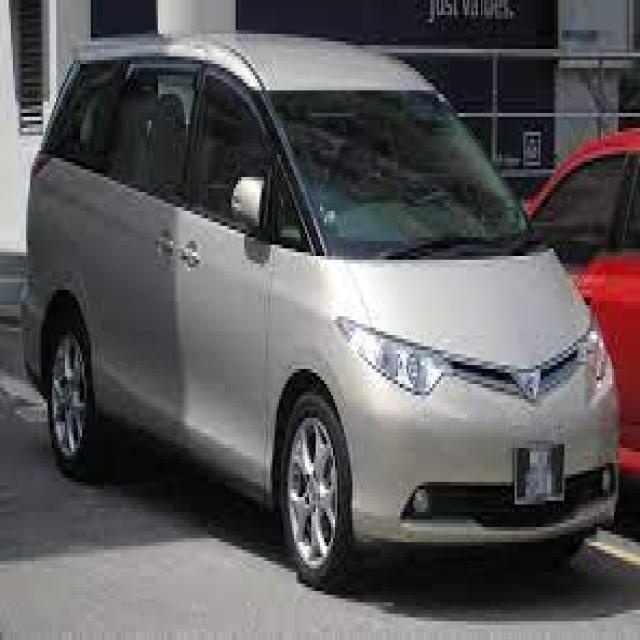Van: (22, 30, 622, 595)
